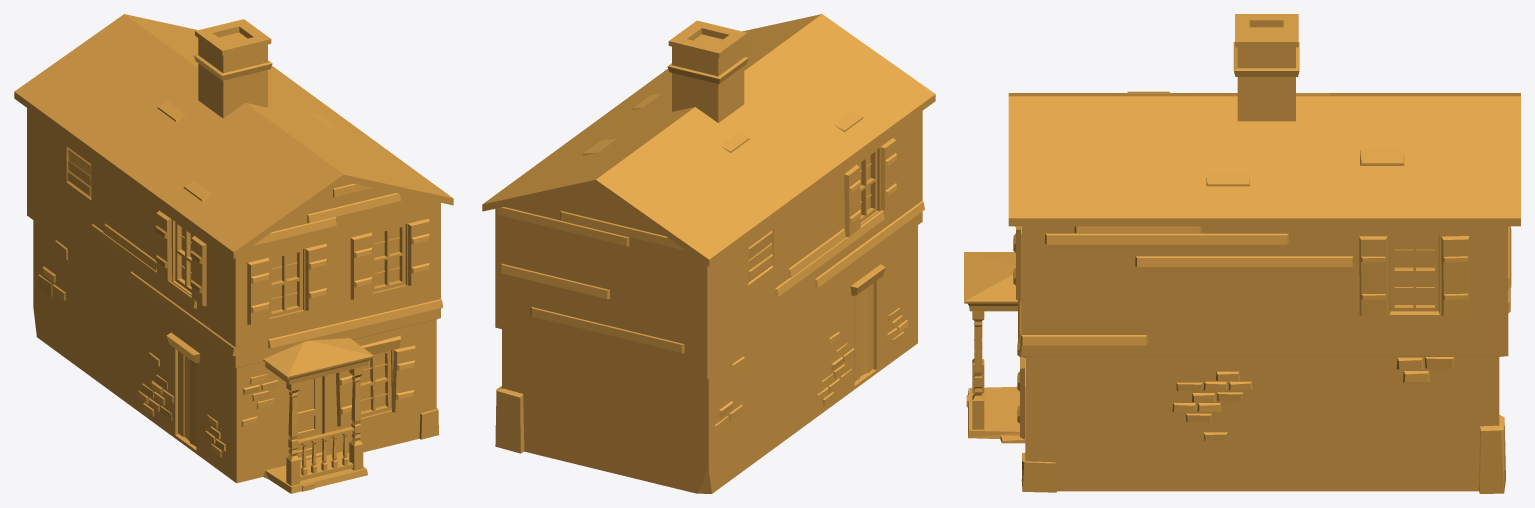
Rendered from pirates-house-pirate-new.glb.
The picture shows the model from 3 angles, left to right: view 1: azimuth 30°, elevation 25°; view 2: azimuth 150°, elevation 25°; view 3: azimuth 270°, elevation 25°; orthographic projection. The views are drawn at different scales.
Parts seen in each view (by area): view 1: house-pirate-new; view 2: house-pirate-new; view 3: house-pirate-new.
Boxes of the visible parts, <box> form: house-pirate-new: <box>14,14,453,493</box>; house-pirate-new: <box>482,14,935,493</box>; house-pirate-new: <box>964,14,1520,493</box>.
Bounding box in the file's own units: 5.68 × 8.59 × 10.67.
